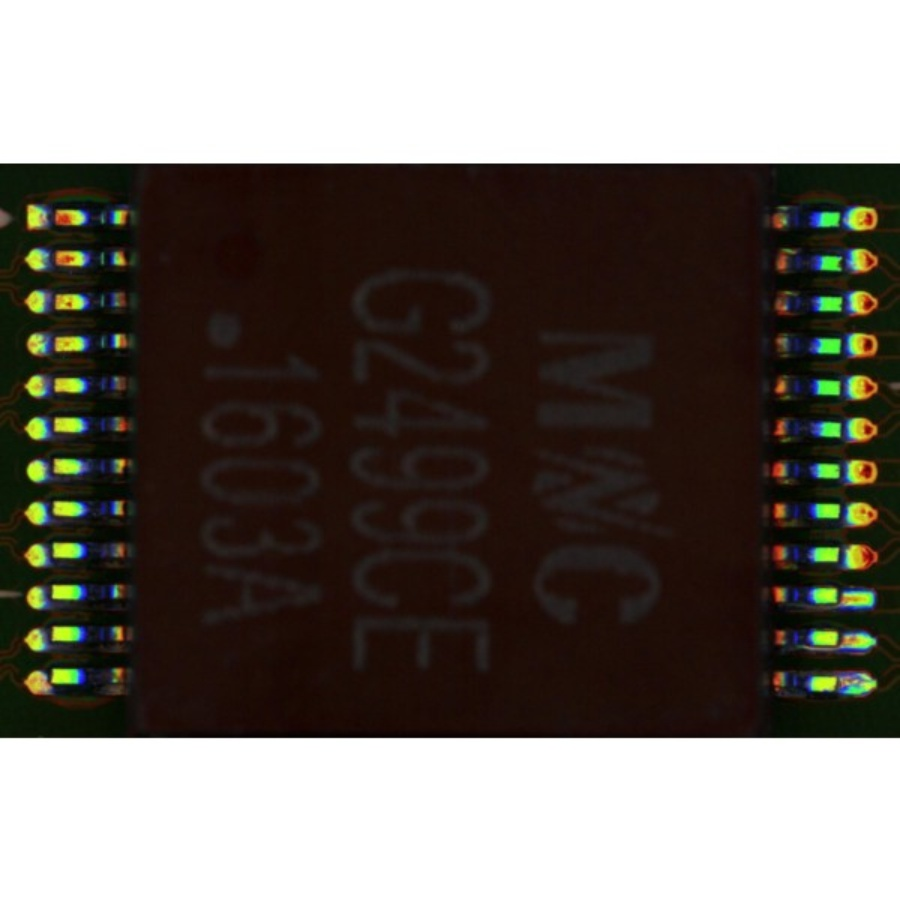Bad_podu: (824, 594, 857, 603), (830, 636, 857, 646)
Bad_qiaojiao: (795, 646, 837, 651)
